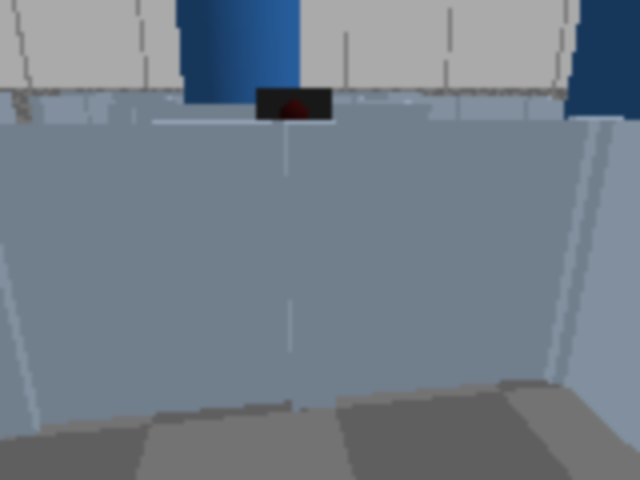person: (554, 0, 638, 353)
